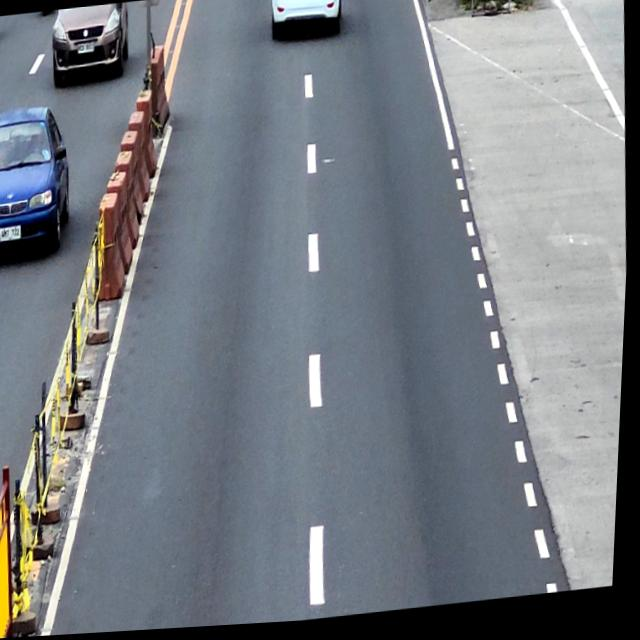Car: (0, 103, 78, 267), (50, 3, 134, 91), (270, 0, 345, 43)
License-Plate: (1, 226, 24, 242), (76, 43, 96, 57)
